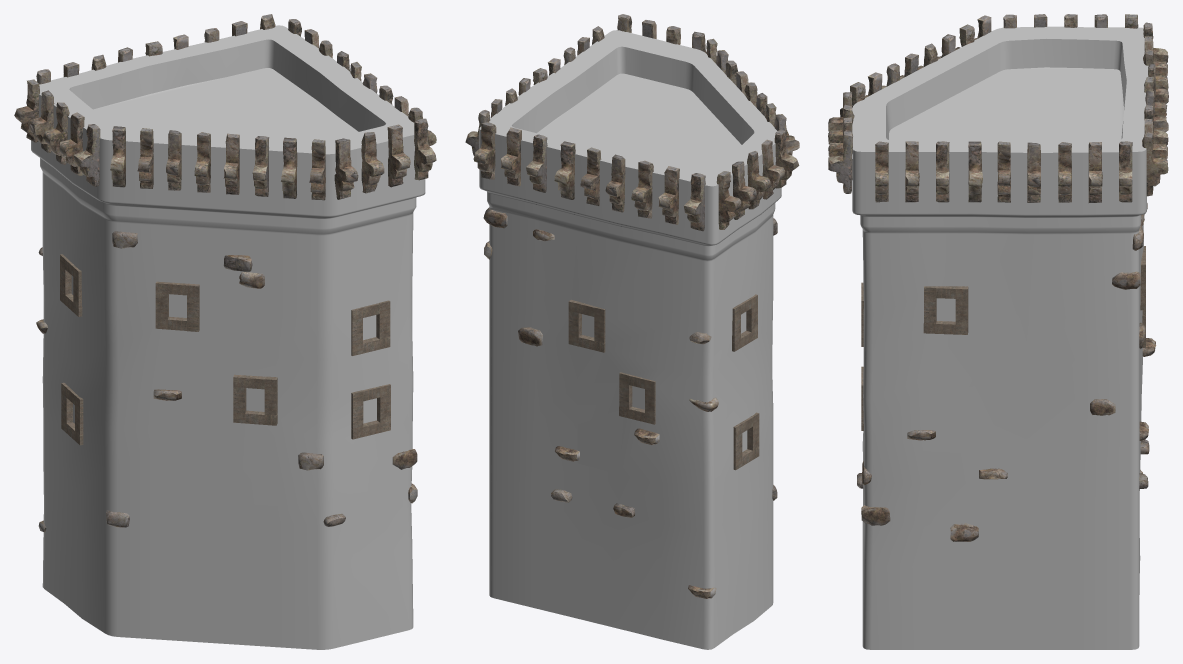
File: SM_EntranceLargePillar07.FBX
3 renders of one model, left to right at view 1: azimuth 30°, elevation 25°; view 2: azimuth 150°, elevation 25°; view 3: azimuth 270°, elevation 25°, orthographic. The views are drawn at different scales.
Visible parts, largest first — view 1: SM_EntranceLargePillar07; view 2: SM_EntranceLargePillar07; view 3: SM_EntranceLargePillar07.
Boxes of the visible parts, left/top/right/bottom form: SM_EntranceLargePillar07: left=14, top=14, right=436, bottom=649; SM_EntranceLargePillar07: left=465, top=14, right=799, bottom=649; SM_EntranceLargePillar07: left=828, top=14, right=1168, bottom=649.
Size of the model in its own units: 1231 by 1232 by 2058.
